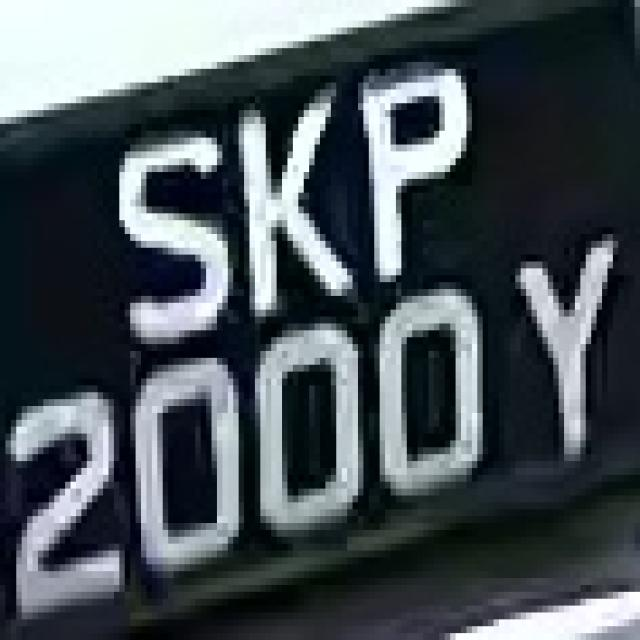0: (326, 296, 494, 509), (250, 316, 374, 544), (130, 344, 239, 585)
2: (16, 386, 136, 620)
K: (228, 82, 347, 324)
P: (342, 48, 482, 275)
S: (114, 90, 222, 344)
Y: (504, 220, 634, 461)
